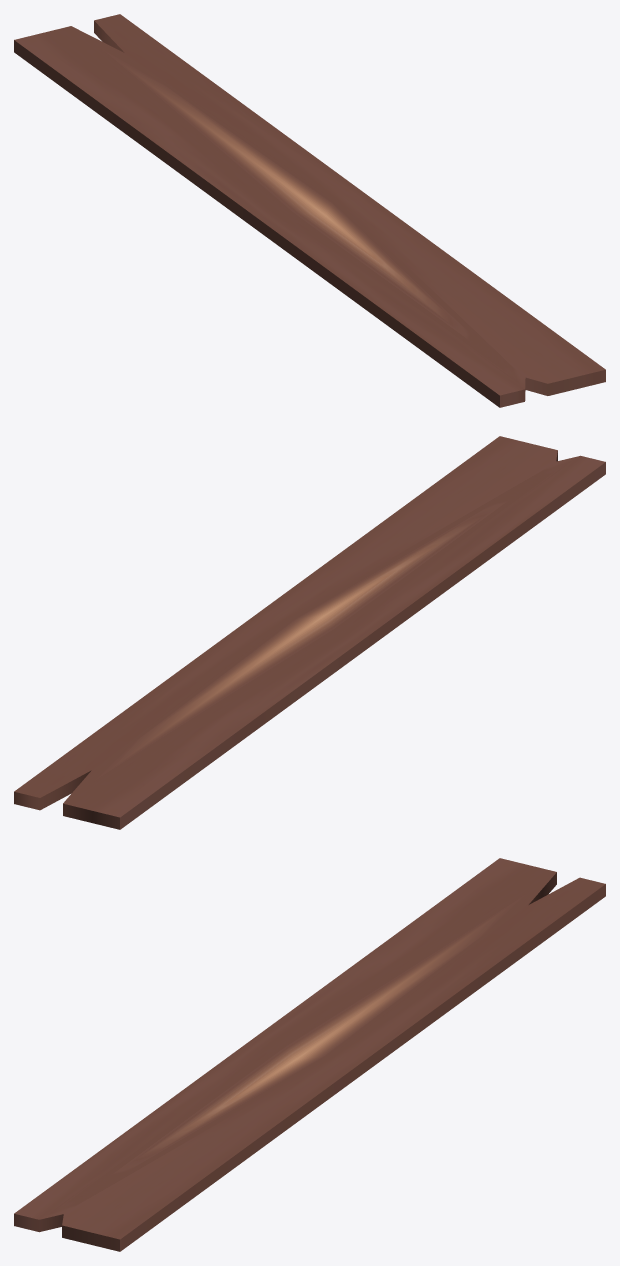
The model's file is PlankLong.fbx.
3 renders of one model, top to bottom at view 1: azimuth 30°, elevation 25°; view 2: azimuth 150°, elevation 25°; view 3: azimuth 330°, elevation 25°, orthographic.
Parts seen in each view (by area): view 1: pCube28; view 2: pCube28; view 3: pCube28.
Boxes of the visible parts, left/top/right/bottom form: pCube28: left=14, top=14, right=605, bottom=407; pCube28: left=14, top=436, right=605, bottom=829; pCube28: left=14, top=858, right=605, bottom=1251.
Bounding box in the file's own units: 204 × 22.7 × 1617.
